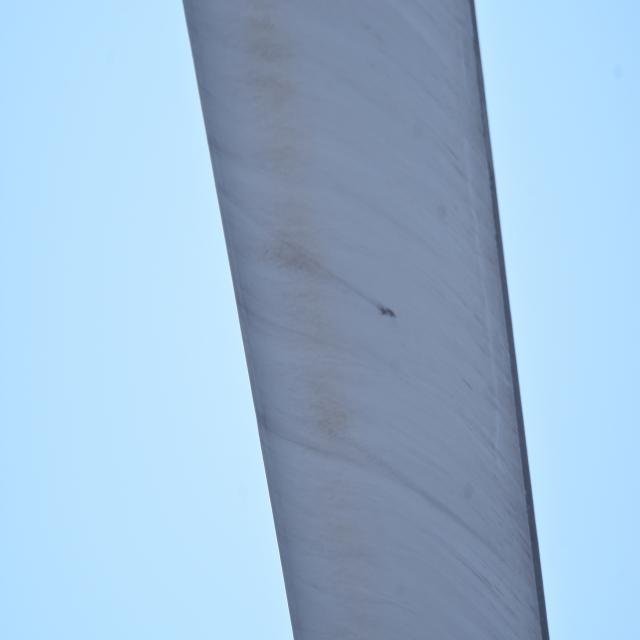Coating_defects: (371, 304, 402, 323)
